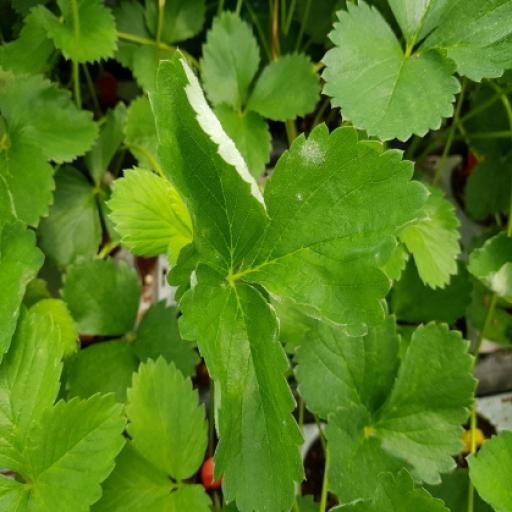Powdery Mildew Leaf: (232, 121, 432, 339), (176, 260, 307, 511), (147, 47, 271, 276), (463, 232, 511, 303)
